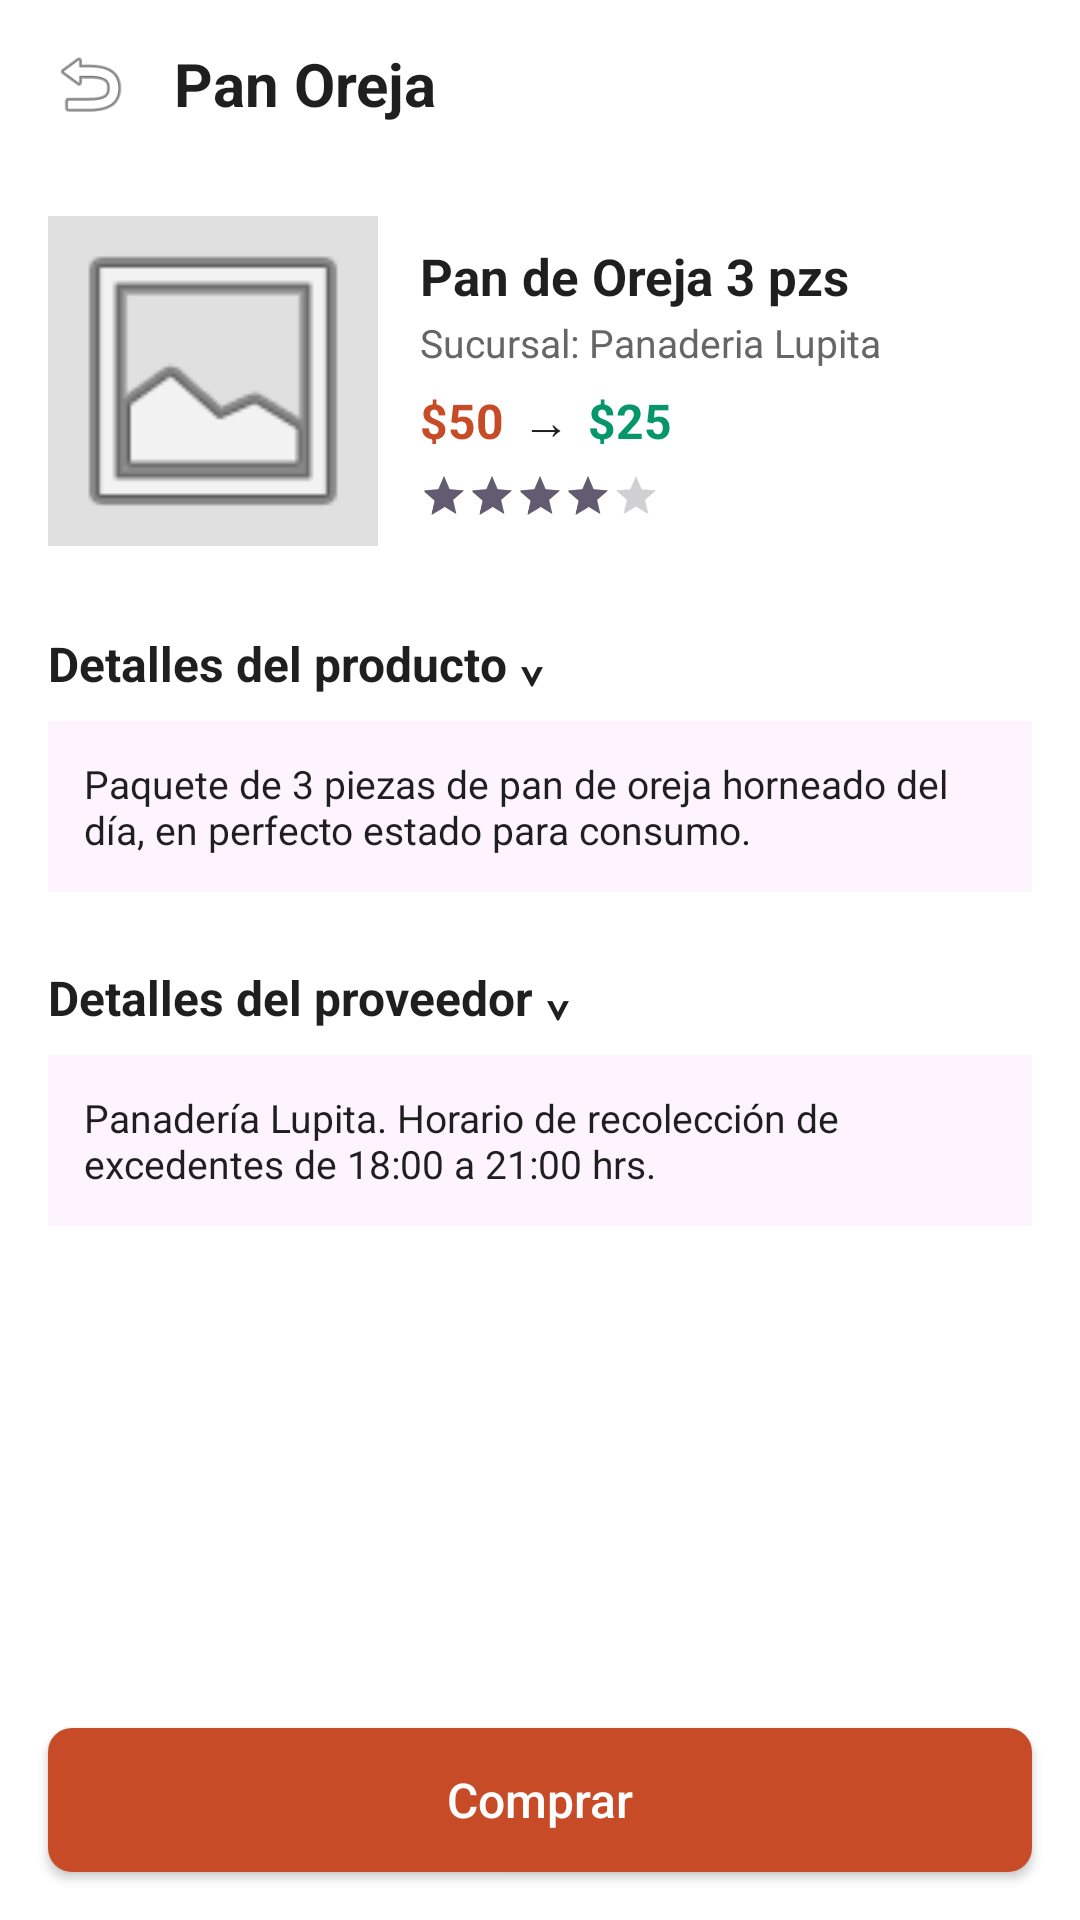

Icon bounding boxes for this 1080 × 1920 phone screenshot, format (x1, y1, x2, y2):
gallery: (48, 216, 378, 546)
revert: (61, 57, 122, 112)
